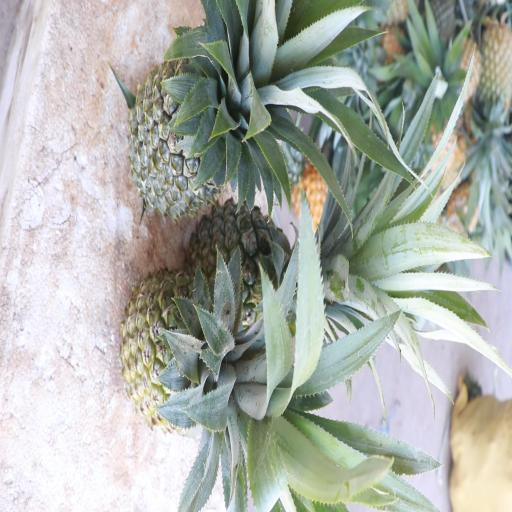------------------------------: (118, 263, 353, 446), (186, 192, 368, 333)
Pineapple - v8 v1: (477, 14, 512, 169)
